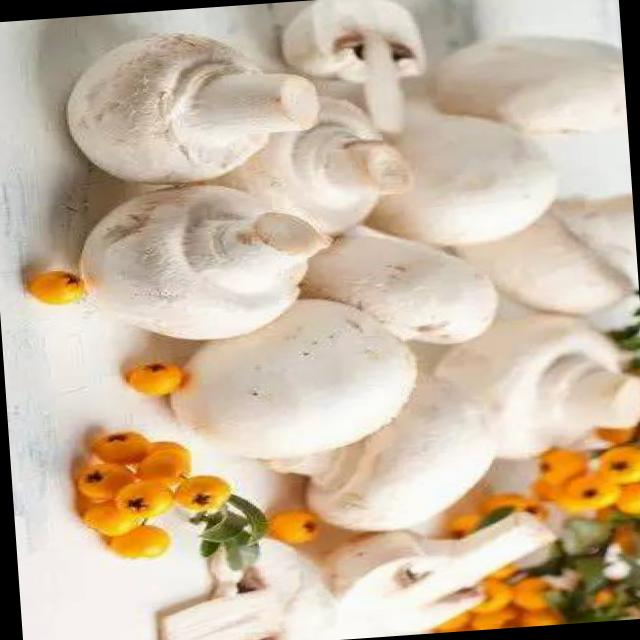Agaricus bisporus: (72, 178, 328, 348), (63, 25, 322, 193), (161, 296, 416, 460), (448, 307, 640, 469), (240, 85, 414, 247), (364, 109, 556, 242), (310, 220, 503, 352), (282, 0, 433, 142)
